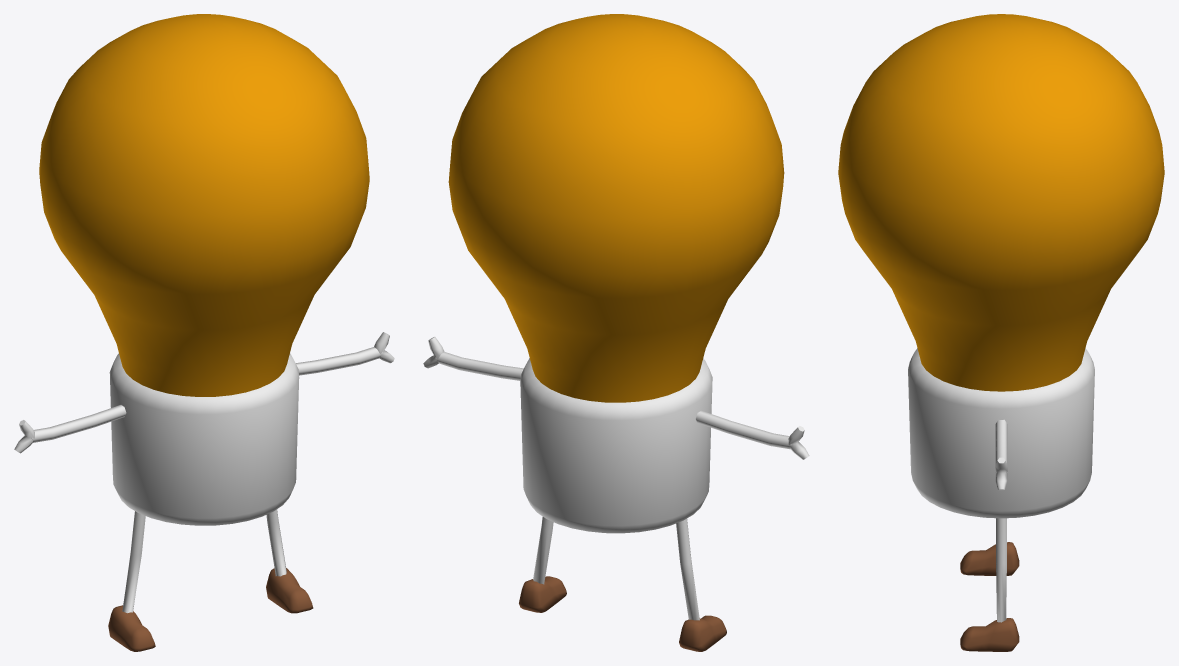
Rendered from Lampie.fbx.
The picture shows the model from 3 angles, left to right: view 1: azimuth 30°, elevation 25°; view 2: azimuth 150°, elevation 25°; view 3: azimuth 270°, elevation 25°; orthographic projection. The views are drawn at different scales.
Parts seen in each view (by area): view 1: Cube; view 2: Cube; view 3: Cube.
Part boxes in pixels (left/top/right/bottom): Cube: left=14, top=14, right=394, bottom=651; Cube: left=423, top=14, right=809, bottom=651; Cube: left=838, top=14, right=1164, bottom=651.
Size of the model in its own units: 409 by 605 by 310.
